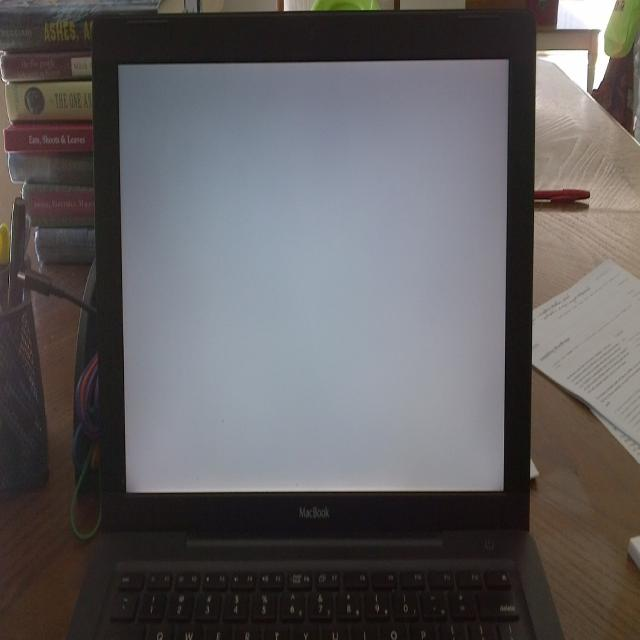Laptop: (64, 11, 566, 640)
